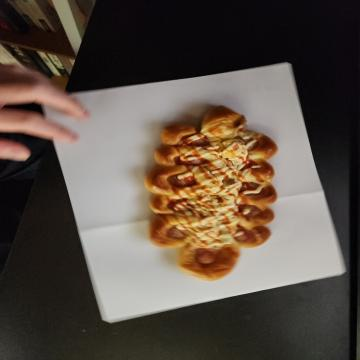pizza_bread: (102, 81, 282, 219)
